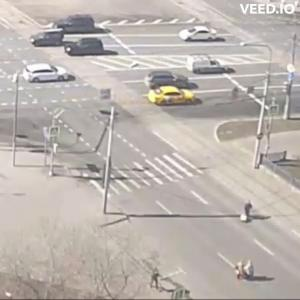car: (64, 38, 120, 59), (185, 55, 235, 76), (148, 89, 195, 111), (25, 63, 72, 84), (29, 29, 71, 52), (146, 71, 190, 89), (58, 17, 102, 33), (180, 27, 223, 43)
